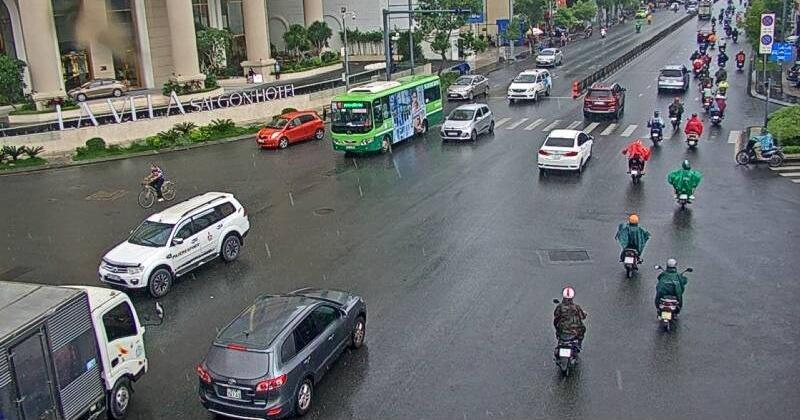xe buyt: (330, 73, 442, 154)
xe hoi: (193, 293, 367, 420), (94, 192, 249, 301), (255, 110, 325, 147), (535, 129, 592, 174), (582, 81, 624, 122)
xe may: (549, 284, 589, 375), (651, 257, 693, 329), (616, 214, 648, 278), (441, 102, 494, 140), (735, 125, 782, 167), (666, 158, 700, 206), (623, 138, 650, 184), (144, 164, 170, 203), (682, 113, 703, 149), (646, 108, 665, 145)
xe tai: (0, 273, 150, 420)
